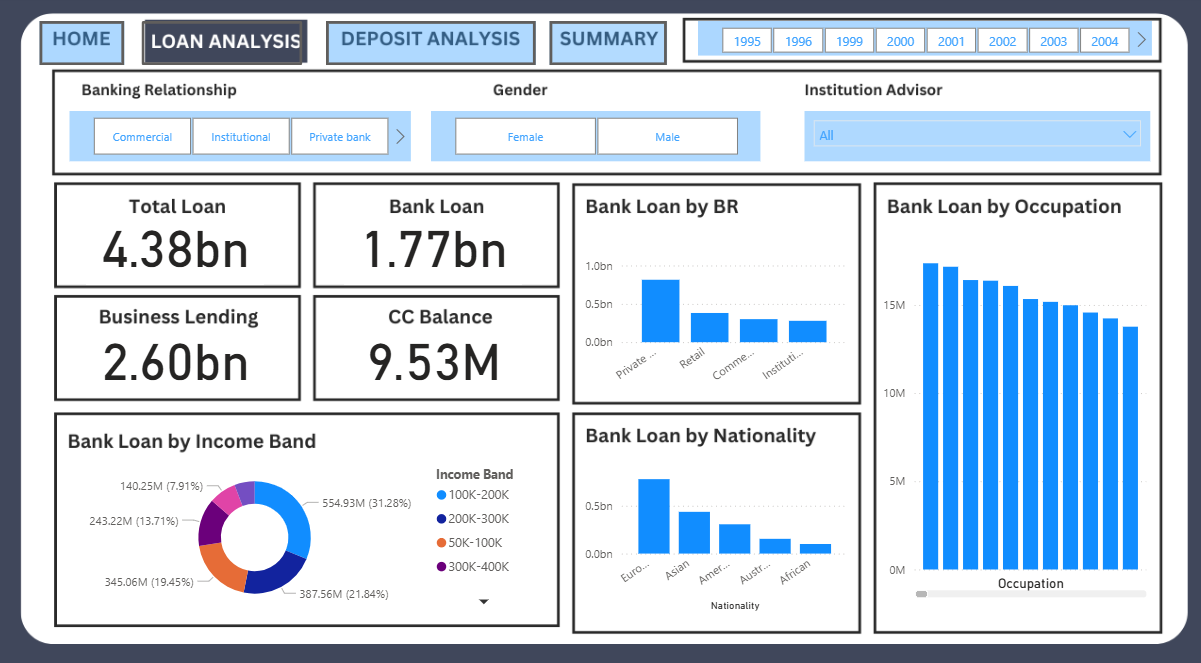

What the dashboard file says about the page in this screenshot:
{"tool":"powerbi","page":{"name":"loan analysis","canvas":[1280,720],"ordinal":1},"visuals":[{"type":"card","fields":{"Values":["Banking.loan total"]},"box":[92.6,238.1,189,69.9],"z":0},{"type":"card","fields":{"Values":["Sum(Banking.Bank Loans)"]},"box":[366.6,238.1,189,69.9],"z":1000},{"type":"card","fields":{"Values":["Sum(Banking.Business Lending)"]},"box":[92.6,359.1,189,68],"z":2000},{"type":"card","fields":{"Values":["Sum(Banking.Credit Card Balance)"]},"box":[366.6,359.1,189,68],"z":3000},{"type":"slicer","fields":{"Values":["Banking.year joining"]},"box":[740.7,28.6,481.5,36.7],"z":4000},{"type":"donutChart","fields":{"Category":["Banking.Income Band"],"Y":["Sum(Banking.Bank Loans)"]},"box":[73.7,495.1,495.1,162.5],"z":5000},{"type":"clusteredColumnChart","fields":{"Category":["Banking.BRId"],"Y":["Sum(Banking.Bank Loans)"]},"box":[616.1,274,289.1,149.3],"z":6000},{"type":"clusteredColumnChart","fields":{"Category":["Banking.Nationality"],"Y":["Sum(Banking.Bank Loans)"]},"box":[616.2,497.9,289.7,161.2],"z":7000},{"type":"clusteredColumnChart","fields":{"Category":["Banking.Occupation"],"Y":["Sum(Banking.Bank Loans)"]},"box":[932.5,259.1,289.7,385.6],"z":8000},{"type":"slicer","fields":{"Values":["Banking.BRId"]},"box":[74,123.9,362.1,53.1],"z":9000},{"type":"slicer","fields":{"Values":["Banking.GenderId"]},"box":[458.7,123.9,349.2,53.1],"z":10000},{"type":"slicer","fields":{"Values":["Banking.IAId"]},"box":[854.6,123.9,366.9,53.1],"z":11000},{"type":"actionButton","box":[42.8,28.6,89.8,46.9],"z":11001},{"type":"actionButton","box":[151.3,29,170.6,46.7],"z":11002},{"type":"actionButton","box":[346.9,28.6,222.4,46.9],"z":11003},{"type":"actionButton","box":[583.6,28.6,124.5,46.9],"z":11004}]}

Visuals, with their boxes in screenshot pixels (x1, y1, x2, y2), scaled from the page's 1280x720 canvas onto the 1201x663 screenshot:
card - Banking.loan total: x1=87 y1=219 x2=264 y2=284
card - Sum(Banking.Bank Loans): x1=344 y1=219 x2=521 y2=284
card - Sum(Banking.Business Lending): x1=87 y1=331 x2=264 y2=393
card - Sum(Banking.Credit Card Balance): x1=344 y1=331 x2=521 y2=393
slicer - Banking.year joining: x1=695 y1=26 x2=1147 y2=60
donutChart - Banking.Income Band x Sum(Banking.Bank Loans): x1=69 y1=456 x2=534 y2=606
clusteredColumnChart - Banking.BRId x Sum(Banking.Bank Loans): x1=578 y1=252 x2=849 y2=390
clusteredColumnChart - Banking.Nationality x Sum(Banking.Bank Loans): x1=578 y1=458 x2=850 y2=607
clusteredColumnChart - Banking.Occupation x Sum(Banking.Bank Loans): x1=875 y1=239 x2=1147 y2=594
slicer - Banking.BRId: x1=69 y1=114 x2=409 y2=163
slicer - Banking.GenderId: x1=430 y1=114 x2=758 y2=163
slicer - Banking.IAId: x1=802 y1=114 x2=1146 y2=163
actionButton: x1=40 y1=26 x2=124 y2=70
actionButton: x1=142 y1=27 x2=302 y2=70
actionButton: x1=325 y1=26 x2=534 y2=70
actionButton: x1=548 y1=26 x2=664 y2=70
